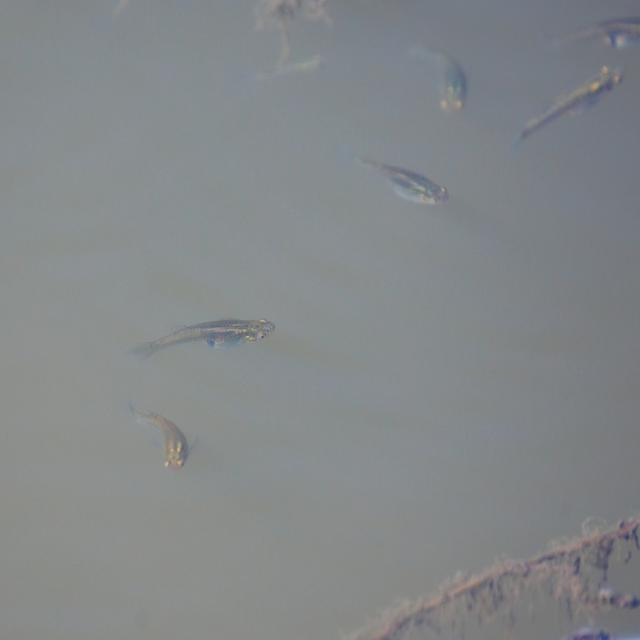Sivrisinek Baligi: (520, 62, 626, 146), (137, 314, 270, 357), (356, 152, 442, 206), (128, 401, 190, 470), (417, 33, 471, 110)
